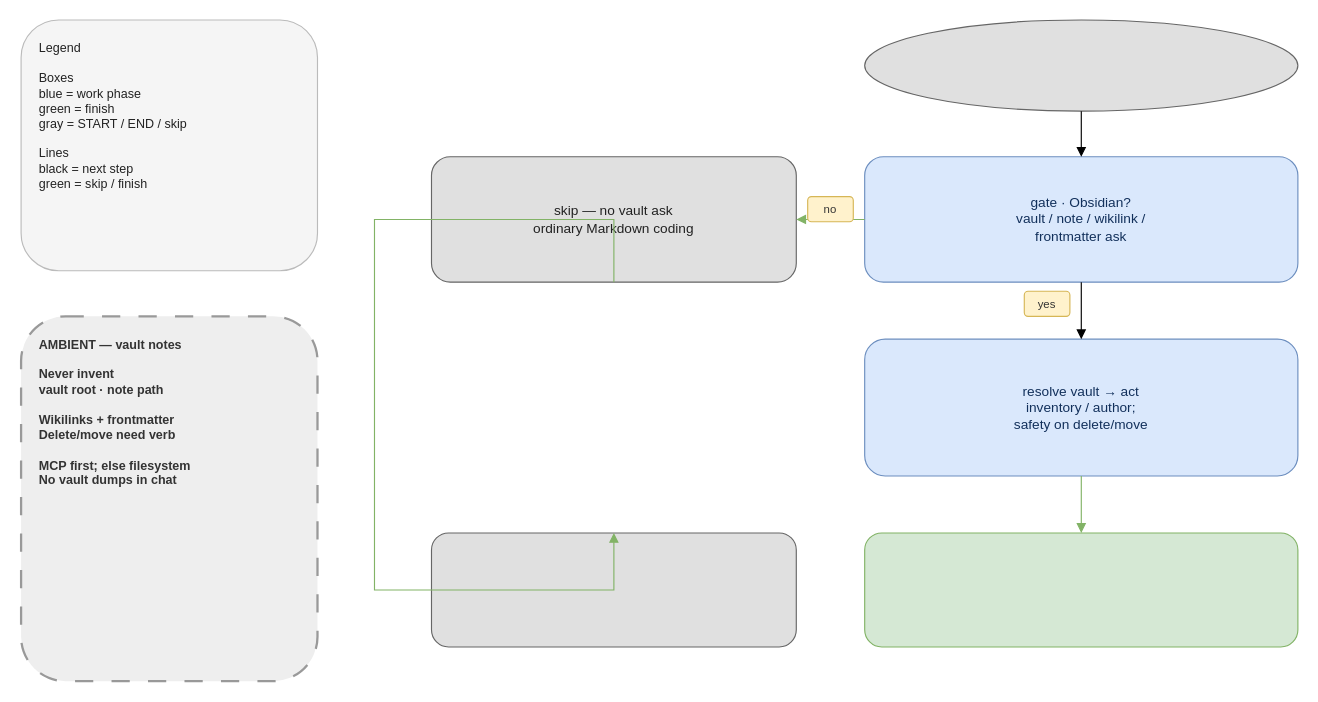
Some shapes in this 1318 by 702 pixel diagram are drawn without their labels. Here are the shapes that lost their labels. From the top down, the centre of each, then its label:
point (1081, 65): START — user ask
point (613, 589): END — stay out
point (1081, 589): END — relative path + what changed
